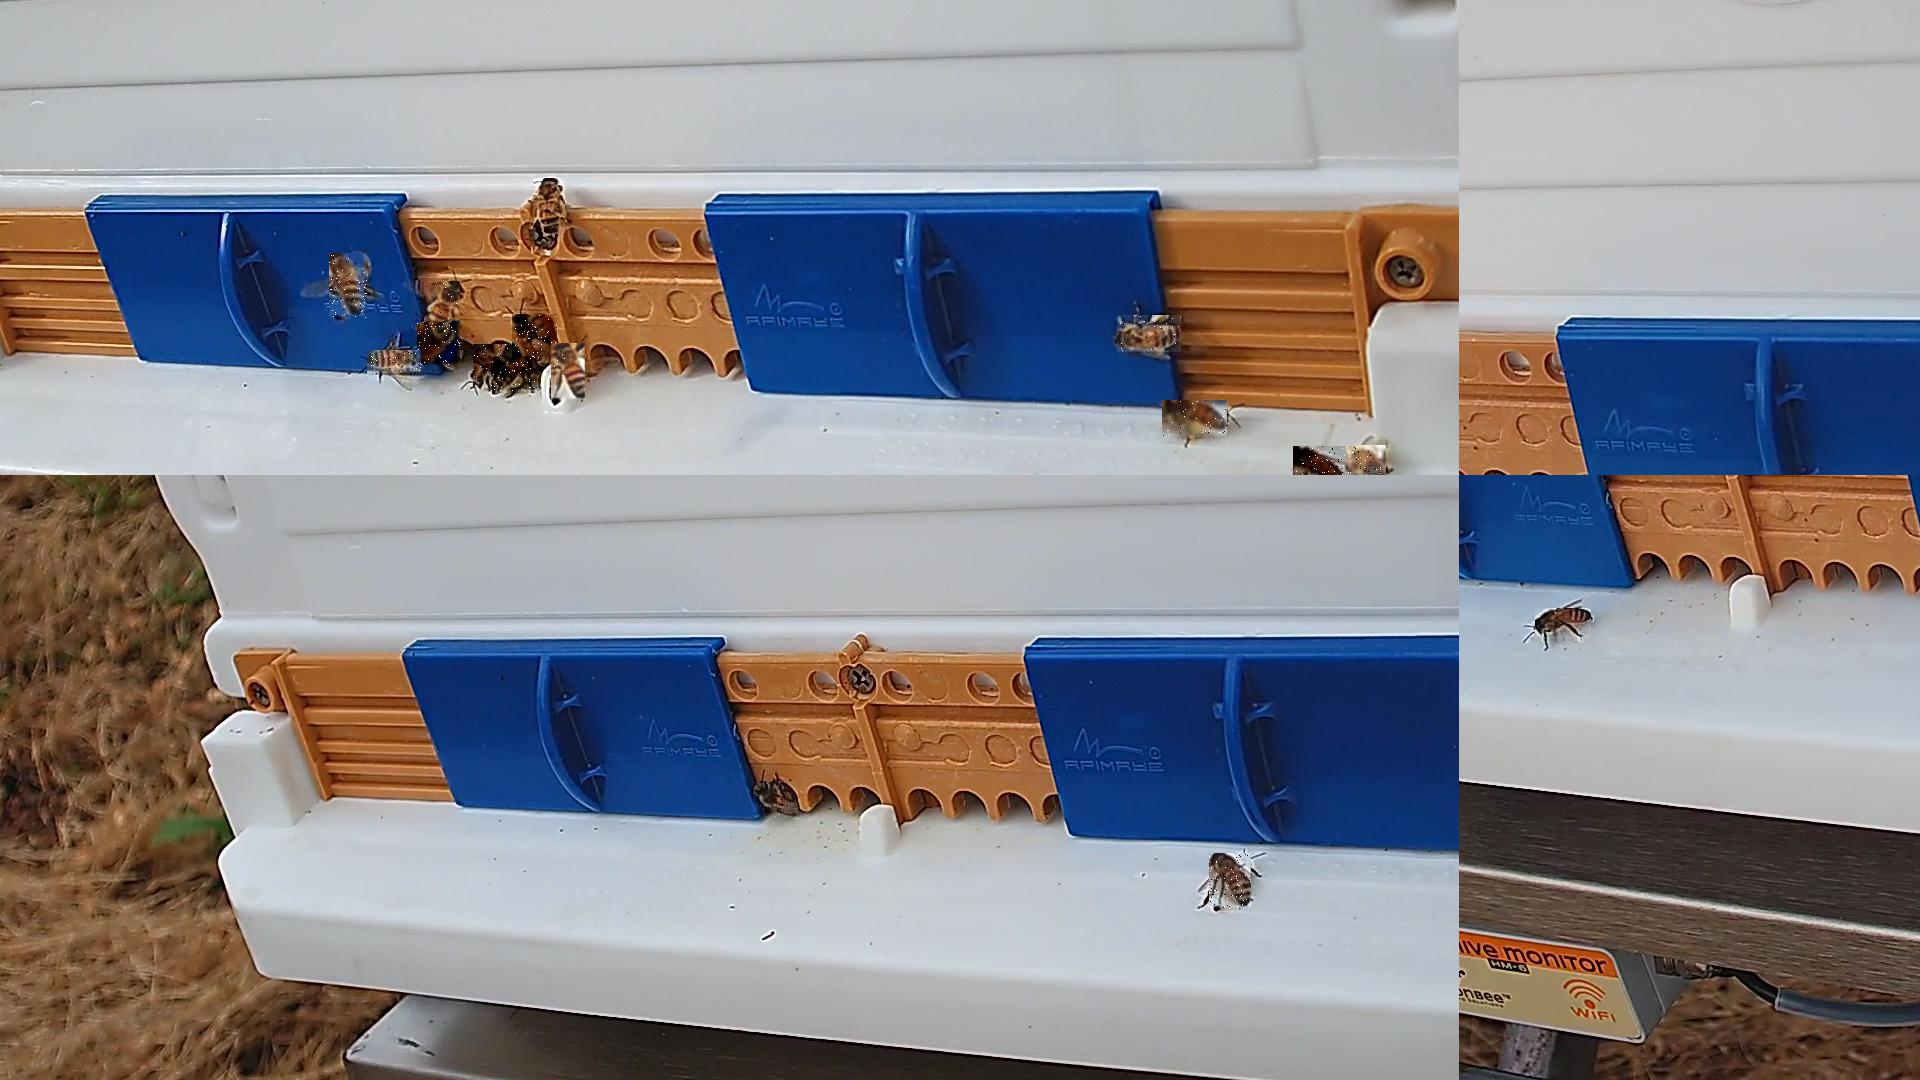bee: (330, 253, 369, 319), (1209, 853, 1251, 911), (425, 282, 462, 342), (512, 315, 558, 361), (418, 324, 463, 368), (1535, 609, 1593, 642), (533, 179, 566, 233), (1294, 446, 1352, 473), (473, 345, 510, 382), (754, 782, 799, 812), (368, 351, 422, 376), (1349, 444, 1389, 473)
pollenbee: (1117, 315, 1182, 356), (1162, 401, 1228, 439), (551, 344, 587, 404), (491, 359, 538, 394)
